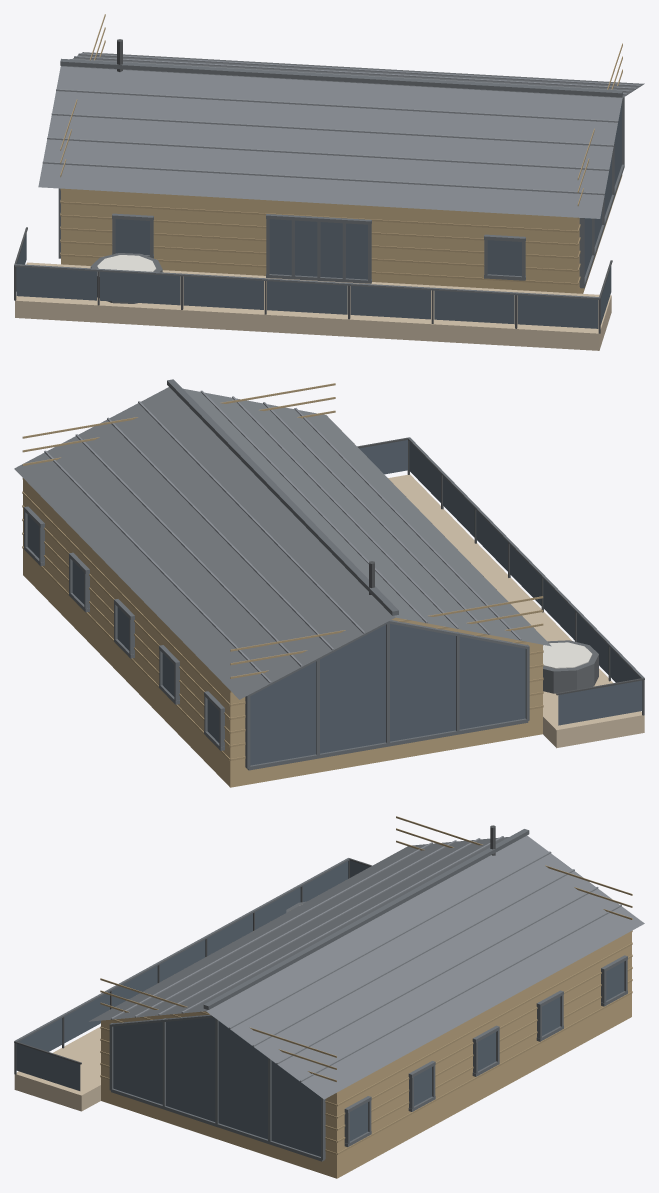
The picture shows the model from 3 angles, top to bottom: view 1: azimuth 30°, elevation 25°; view 2: azimuth 150°, elevation 25°; view 3: azimuth 270°, elevation 25°; orthographic projection. The views are drawn at different scales.
Parts seen in each view (by area): view 1: slate, door_wood, larch, slate_dk, slate_lt, door_wood_p, window_glass_007, window_glass_004, window_glass_001, window_glass_003, window_glass_002, window_glass_005 (+10 smaller); view 2: slate, window_glass_016, door_wood, slate_dk, slate_lt, larch, door_wood_p, window_glass_008, band_dark, pipe, window_glass_009, string (+6 smaller); view 3: slate, door_wood, window_glass_017, slate_dk, slate_lt, door_wood_p, larch, window_glass_009, window_glass_006, window_glass_004, window_glass_001, pipe (+9 smaller).
Boxes of the visible parts, x1,y1,x2,y2 form: slate: (38, 52, 644, 218); door_wood: (61, 175, 622, 293); larch: (15, 262, 611, 350); slate_dk: (15, 58, 624, 299); slate_lt: (42, 53, 640, 195); door_wood_p: (60, 14, 622, 285); window_glass_007: (517, 295, 598, 328); window_glass_004: (267, 281, 347, 314); window_glass_001: (16, 267, 96, 300); window_glass_003: (183, 276, 263, 309); window_glass_002: (100, 271, 180, 305); window_glass_005: (350, 286, 430, 319); slate: (14, 387, 551, 699); window_glass_016: (250, 623, 525, 765); door_wood: (23, 430, 542, 787); slate_dk: (24, 379, 644, 770); slate_lt: (44, 390, 521, 683); larch: (388, 474, 644, 748); door_wood_p: (22, 383, 543, 760); window_glass_008: (558, 680, 642, 725); band_dark: (543, 640, 598, 693); pipe: (357, 437, 644, 715); window_glass_009: (359, 440, 407, 474); string: (543, 642, 592, 668); slate: (89, 835, 644, 1099); door_wood: (101, 931, 631, 1178); window_glass_017: (113, 1017, 320, 1156); slate_dk: (15, 829, 627, 1161); slate_lt: (111, 836, 621, 1081); door_wood_p: (100, 816, 632, 1154); larch: (14, 1027, 100, 1111); window_glass_009: (16, 1043, 80, 1090); window_glass_006: (64, 992, 109, 1043); window_glass_004: (159, 940, 205, 981); window_glass_001: (302, 861, 348, 901); pipe: (14, 825, 495, 1074).
Size of the model in its own units: 18.76 by 5.1 by 17.9.
